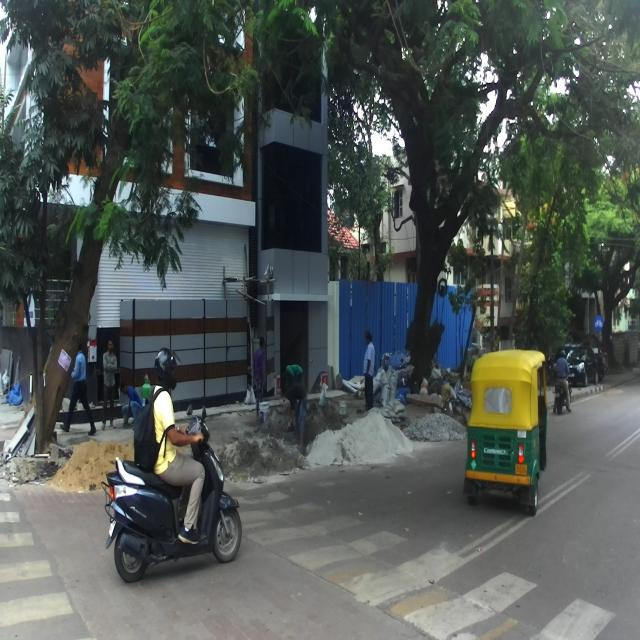autorickshaw: (461, 345, 552, 515)
scooter: (100, 398, 243, 585)
